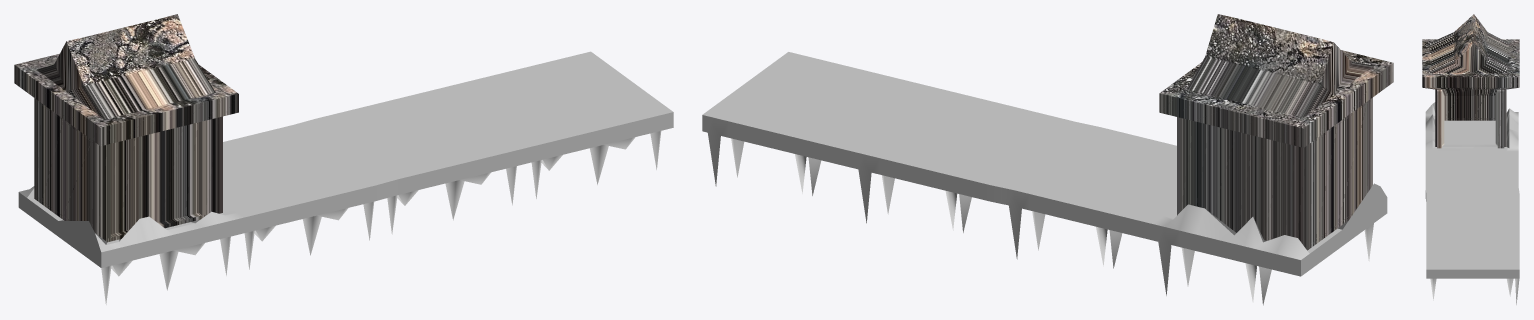
The model's file is start.fbx.
The picture shows the model from 3 angles, left to right: view 1: azimuth 30°, elevation 25°; view 2: azimuth 150°, elevation 25°; view 3: azimuth 270°, elevation 25°; orthographic projection. The views are drawn at different scales.
Parts seen in each view (by area): view 1: polySurface193; view 2: polySurface193; view 3: polySurface193.
Part boxes in pixels (<box>): polySurface193: <box>14,14,673,304</box>; polySurface193: <box>702,14,1393,305</box>; polySurface193: <box>1422,14,1519,304</box>.
Bounding box in the file's own units: 359 × 147 × 93.07.
